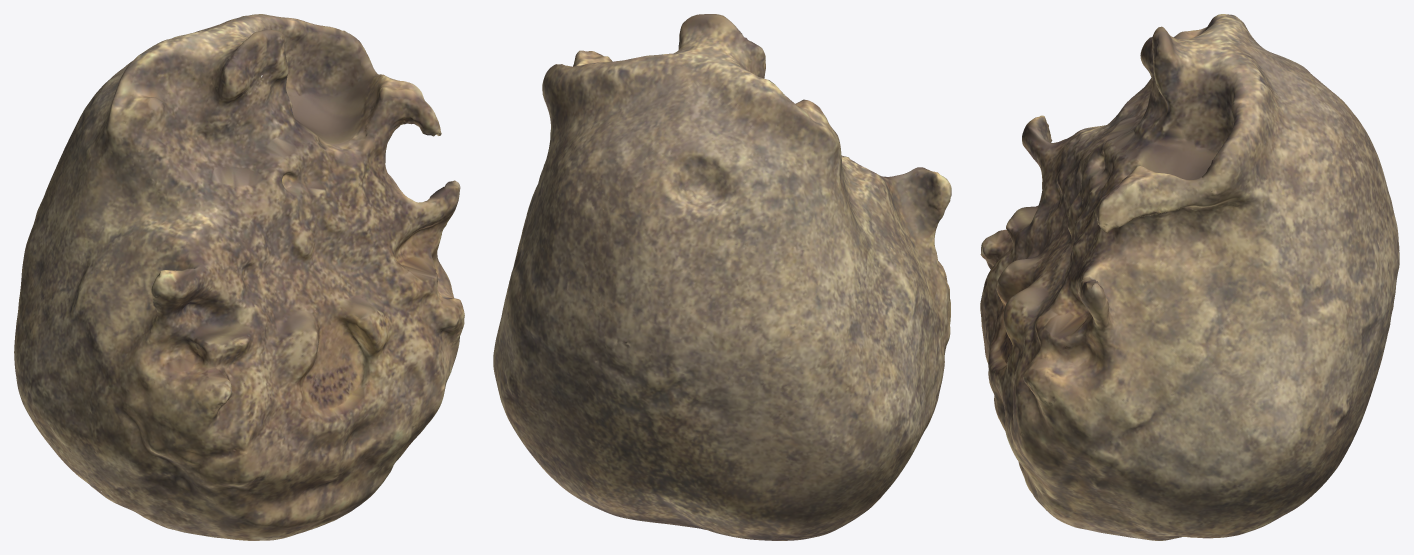
File: human-skull.glb
3 renders of one model, left to right at view 1: azimuth 30°, elevation 25°; view 2: azimuth 150°, elevation 25°; view 3: azimuth 270°, elevation 25°, orthographic. The views are drawn at different scales.
Bounding box in the file's own units: 154 × 187 × 144.
1 material, 1 textured.
